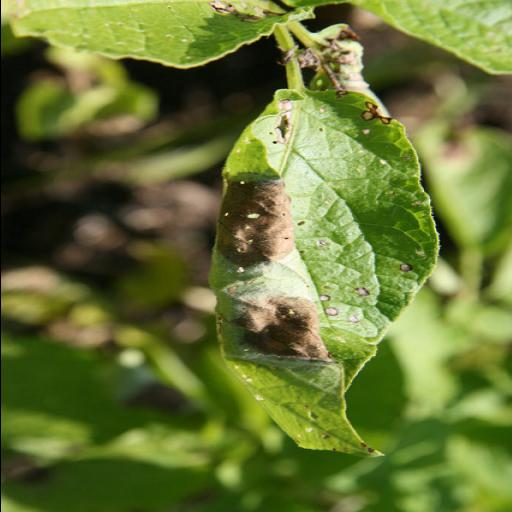Late Blight: (198, 84, 444, 466)
